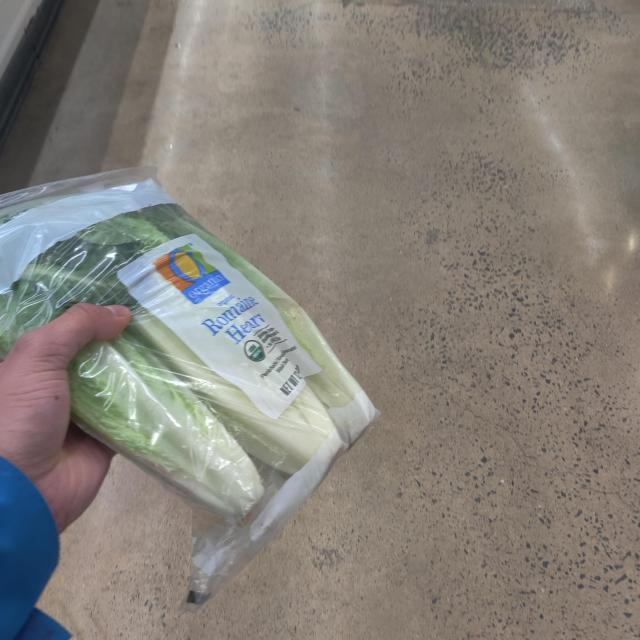Lettuce: (0, 164, 390, 540)
